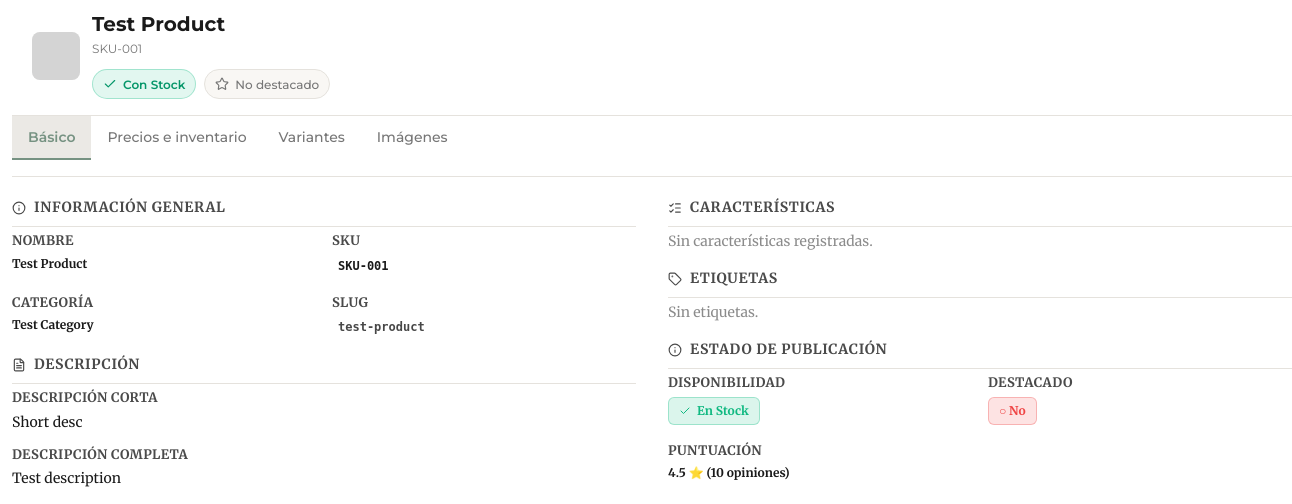
Test case: ProductDetailPanel - Delete Confirmation Modal › should toggle isFeatured status when featured button is clicked
The image size is (1292, 504).
Click the button "No destacado". click: (267, 84)
box: [204,69,330,99]
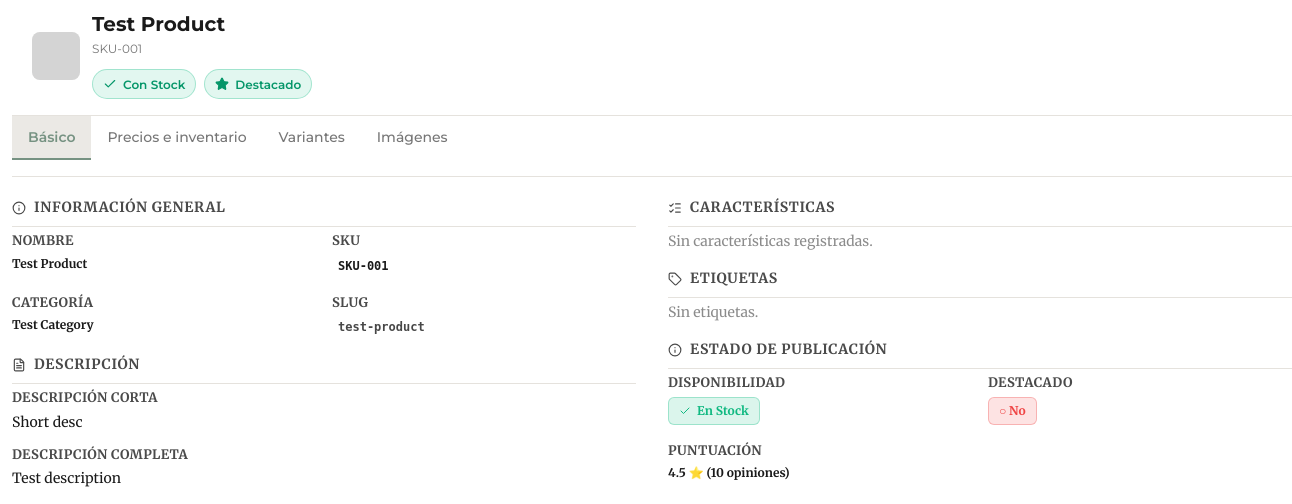
Check: the button named "No destacado" reads "Destacado", box [204,69,312,99]
